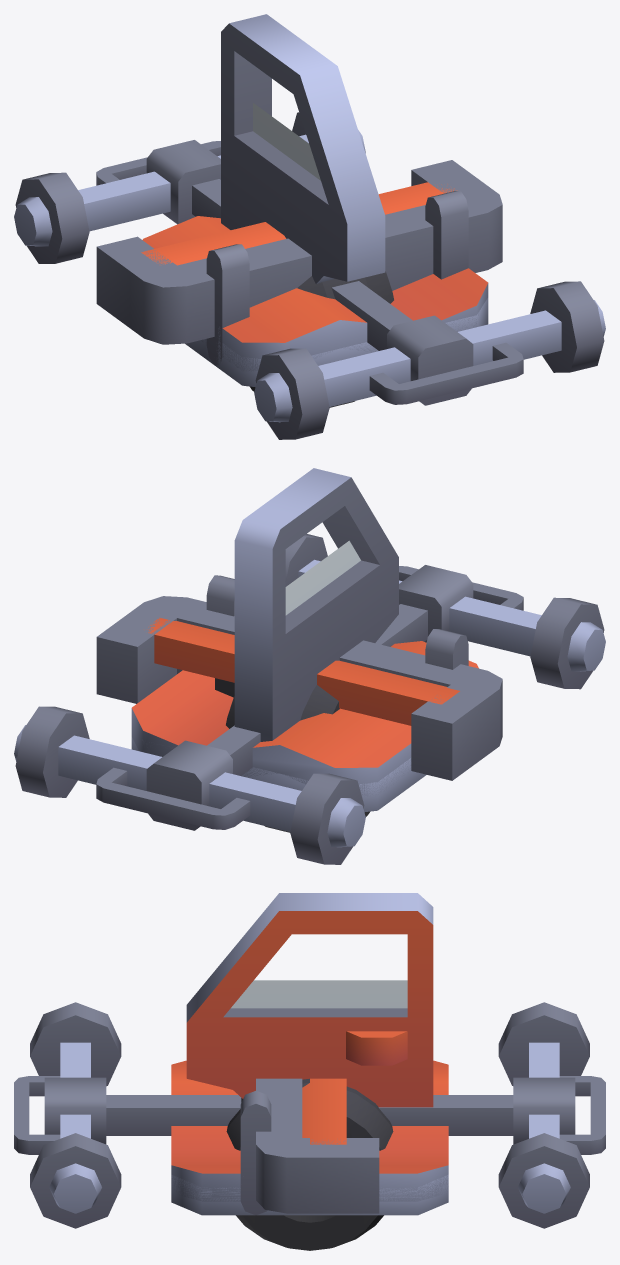
Rendered from kenney_car_debris.glb.
3 views of the same model, one above another, from view 1: azimuth 30°, elevation 25°; view 2: azimuth 150°, elevation 25°; view 3: azimuth 270°, elevation 25° (orthographic). The views are drawn at different scales.
Parts seen in each view (by area): view 1: debris-drivetrain, debris-door, debris-bumper, debris-plate-b, debris-spoiler-a, debris-door-window, debris-plate-a, debris-tire; view 2: debris-drivetrain, debris-door, debris-bumper, debris-plate-b, debris-spoiler-a, debris-door-window, debris-plate-a, debris-tire; view 3: debris-drivetrain, debris-door, debris-bumper, debris-plate-b, debris-door-window, debris-tire, debris-plate-a, debris-spoiler-a.
Boxes of the visible parts, <box> form: debris-drivetrain: <box>14,112,605,439</box>; debris-door: <box>221,14,385,284</box>; debris-bumper: <box>96,160,502,365</box>; debris-plate-b: <box>142,216,488,371</box>; debris-spoiler-a: <box>141,182,457,265</box>; debris-door-window: <box>235,71,321,185</box>; debris-plate-a: <box>185,298,488,386</box>; debris-tire: <box>250,271,393,407</box>; debris-drivetrain: <box>14,534,605,864</box>; debris-door: <box>234,468,398,741</box>; debris-bumper: <box>96,575,502,780</box>; debris-plate-b: <box>131,641,478,796</box>; debris-spoiler-a: <box>147,617,459,725</box>; debris-door-window: <box>285,540,360,632</box>; debris-plate-a: <box>131,737,426,812</box>; debris-tire: <box>226,685,369,832</box>; debris-drivetrain: <box>14,1002,605,1228</box>; debris-door: <box>186,893,433,1107</box>; debris-bumper: <box>240,1078,379,1215</box>; debris-plate-b: <box>171,1060,448,1201</box>; debris-door-window: <box>224,980,407,1017</box>; debris-tire: <box>226,1078,393,1250</box>; debris-plate-a: <box>171,1174,448,1215</box>; debris-spoiler-a: <box>302,1078,346,1144</box>.
Size of the model in its own units: 1.95 by 1.8 by 2.88.
Materials: 1 (1 with a texture image).
